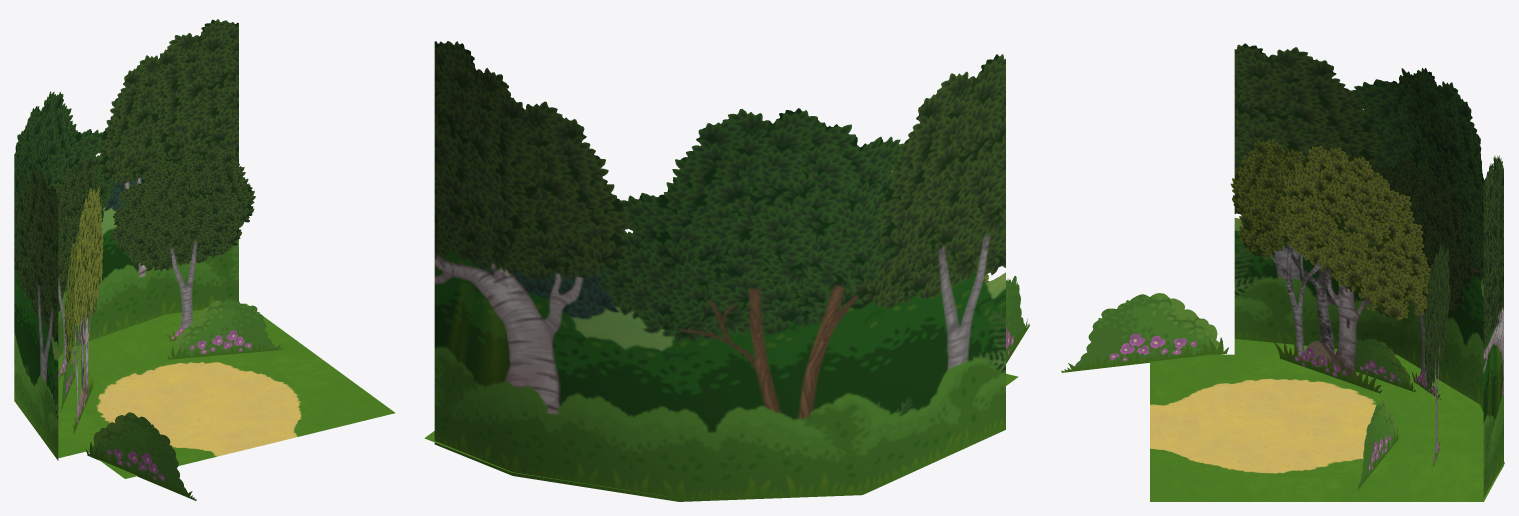
Rendered from reward1.dae.
The picture shows the model from 3 angles, left to right: view 1: azimuth 30°, elevation 25°; view 2: azimuth 150°, elevation 25°; view 3: azimuth 270°, elevation 25°; orthographic projection. The views are drawn at different scales.
Visible parts, largest first — view 1: rewardtrees, rewardfloor, rewardtree05, rewardtree01, rewardbush, rewardbush02, rewardtree04; view 2: rewardtrees, rewardbush; view 3: rewardtrees, rewardfloor, rewardtree01, rewardbush, rewardtree04, rewardtree05, rewardbush01, rewardbush02.
Part boxes in pixels (x1,y1,x2,y2): rewardtrees: [14, 19, 238, 460]; rewardfloor: [58, 303, 395, 478]; rewardtree05: [110, 146, 255, 341]; rewardtree01: [64, 186, 103, 433]; rewardbush: [86, 412, 196, 500]; rewardbush02: [167, 299, 285, 359]; rewardtree04: [53, 154, 104, 378]; rewardtrees: [434, 41, 1005, 501]; rewardbush: [1006, 276, 1029, 363]; rewardtrees: [1234, 43, 1503, 497]; rewardfloor: [1150, 339, 1504, 501]; rewardtree01: [1230, 139, 1430, 393]; rewardbush: [1061, 293, 1228, 372]; rewardtree04: [1378, 156, 1473, 399]; rewardtree05: [1424, 243, 1450, 467]; rewardbush01: [1354, 338, 1415, 392]; rewardbush02: [1357, 399, 1399, 490].
Bounding box in the file's own units: 54.53 × 51.12 × 63.01.
Materials: 6 (6 with a texture image).
